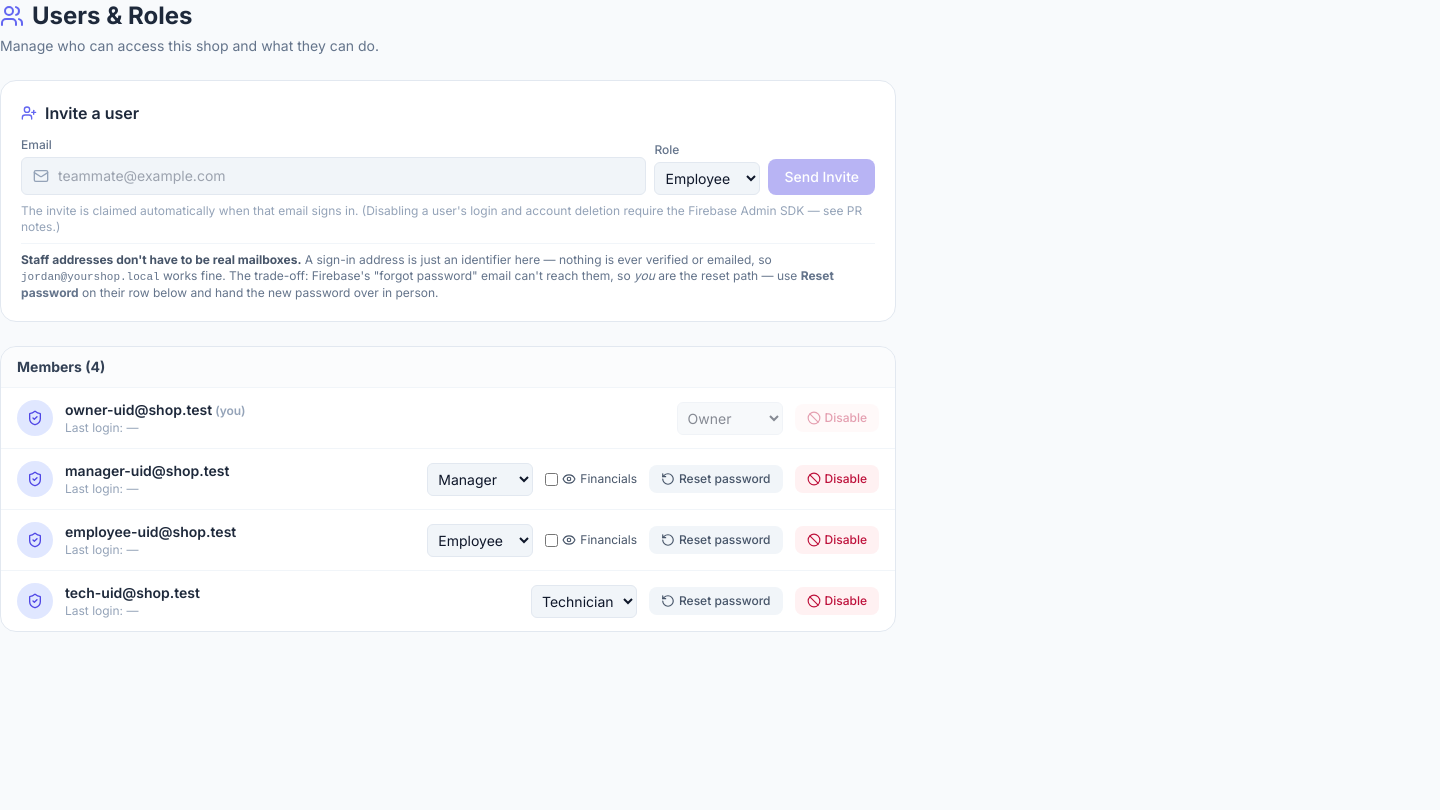
Test: the reset dialog › warns that nothing is emailed and the password must be handed over directly
Click the button "Reset password" in the row of "manager-uid@shop.test". click: x=716, y=479
box: [649, 465, 783, 493]
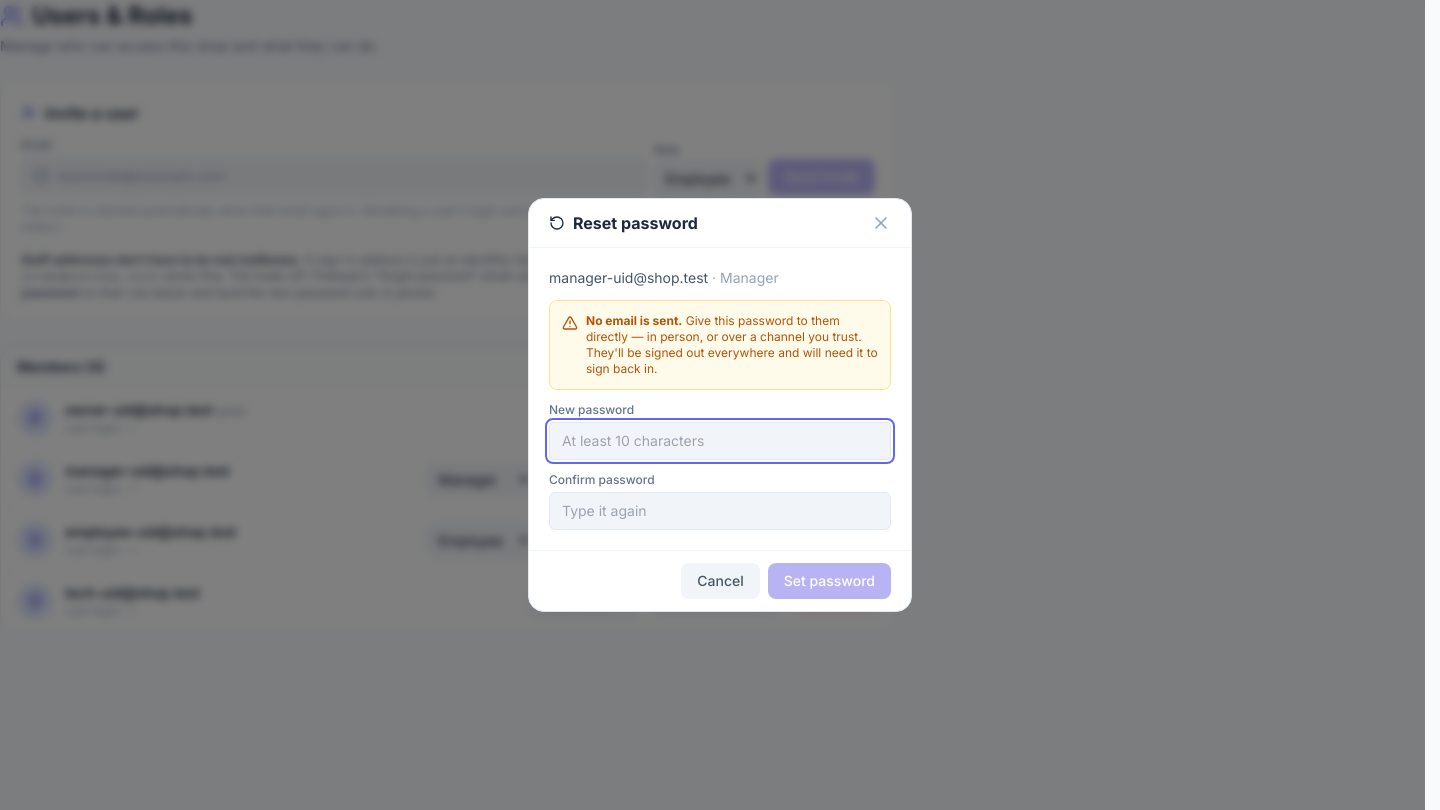
Expected: the text "No email is sent" is shown, [586, 313, 682, 328]
